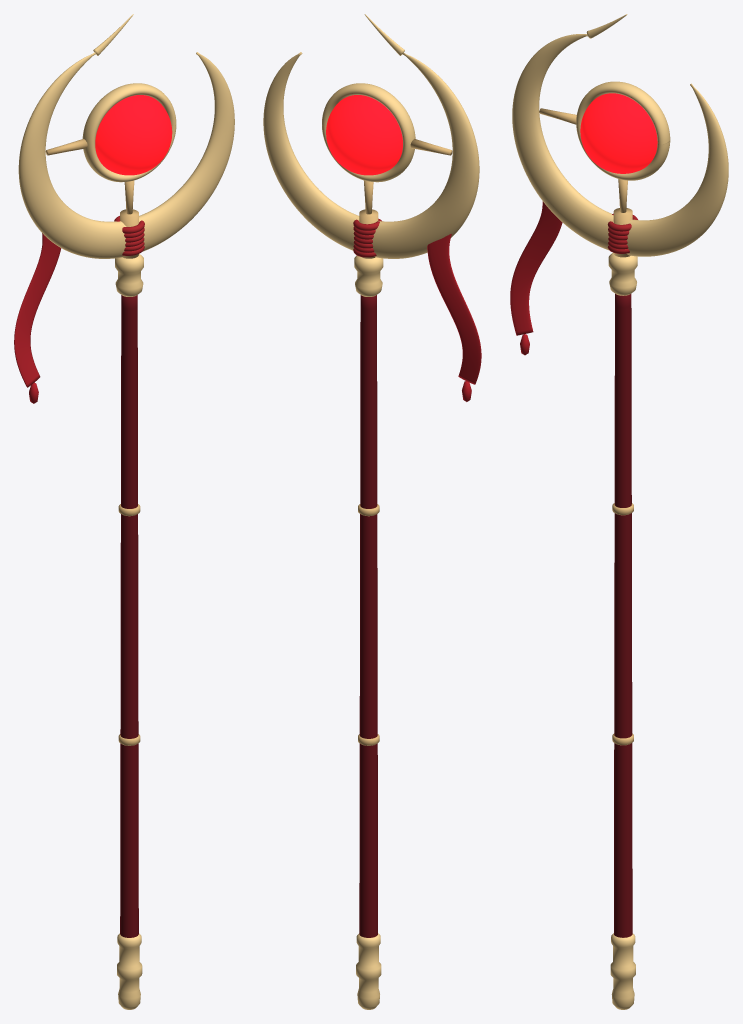
Rendered from staff.glb.
3 renders of one model, left to right at view 1: azimuth 30°, elevation 25°; view 2: azimuth 150°, elevation 25°; view 3: azimuth 330°, elevation 25°, orthographic.
Parts seen in each view (by area): view 1: Crescent, Pole, Orb, Ribbon, Bezel, Ferrule, Collar, Cord; view 2: Crescent, Pole, Orb, Ribbon, Bezel, Ferrule, Collar, Cord; view 3: Crescent, Pole, Orb, Ribbon, Bezel, Ferrule, Collar, Cord.
Part boxes in pixels (<box>): Crescent: <box>18,52,234,258</box>; Pole: <box>120,295,138,937</box>; Orb: <box>95,95,172,175</box>; Ribbon: <box>14,233,61,387</box>; Bezel: <box>82,83,176,182</box>; Ferrule: <box>117,933,142,1009</box>; Collar: <box>115,253,143,296</box>; Cord: <box>114,216,144,255</box>; Crescent: <box>263,52,479,258</box>; Pole: <box>359,295,377,937</box>; Orb: <box>326,95,402,175</box>; Ribbon: <box>427,234,481,384</box>; Bezel: <box>322,83,415,182</box>; Ferrule: <box>356,933,381,1009</box>; Collar: <box>354,255,383,296</box>; Cord: <box>353,218,381,257</box>; Crescent: <box>512,34,728,256</box>; Pole: <box>614,293,632,937</box>; Orb: <box>580,93,657,173</box>; Ribbon: <box>510,201,562,335</box>; Bezel: <box>576,81,670,180</box>; Ferrule: <box>610,933,635,1009</box>; Collar: <box>608,252,637,295</box>; Cord: <box>607,213,637,253</box>.
Bounding box in the file's own units: 0.7971 × 3.46 × 0.27.
